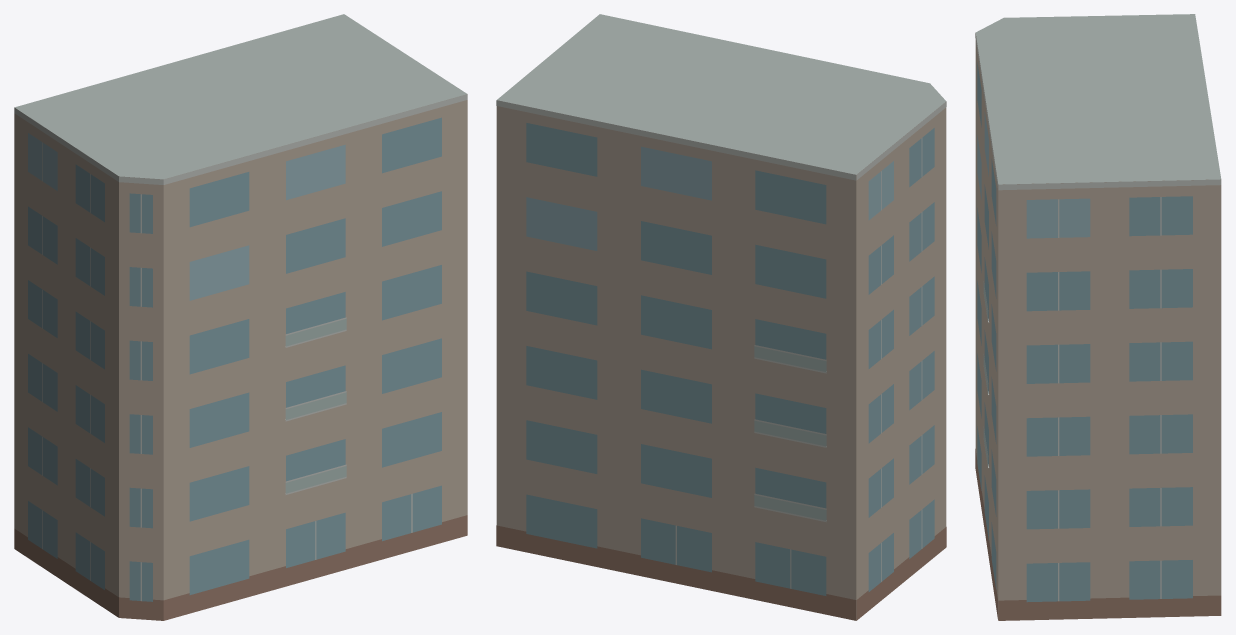
File: survey-upis-32955325.glb
3 views of the same model, side by side, from view 1: azimuth 30°, elevation 25°; view 2: azimuth 150°, elevation 25°; view 3: azimuth 270°, elevation 25° (orthographic). The views are drawn at different scales.
Visible parts, largest first — view 1: survey-upis-32955325.tmp; view 2: survey-upis-32955325.tmp; view 3: survey-upis-32955325.tmp.
Boxes of the visible parts, x1,y1,x2,y2 form: survey-upis-32955325.tmp: (14, 14, 467, 620); survey-upis-32955325.tmp: (496, 14, 946, 620); survey-upis-32955325.tmp: (975, 14, 1221, 620).
Size of the model in its own units: 15.69 by 18.7 by 9.56.
